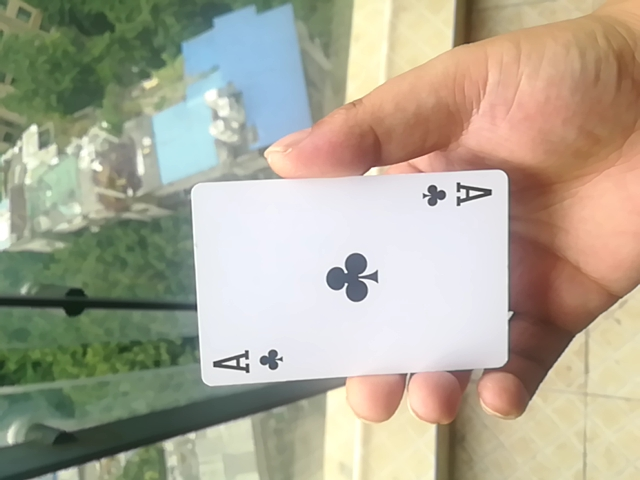mh a: (186, 166, 509, 387)
